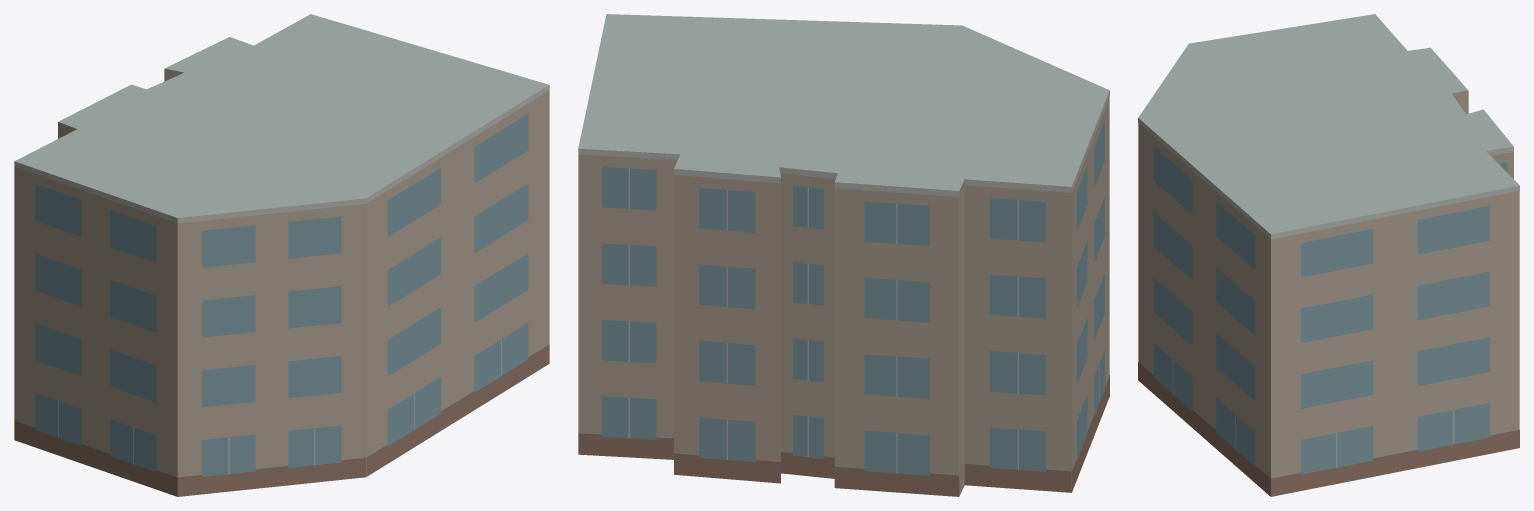
The model's file is survey-upis-32931523.glb.
3 views of the same model, side by side, from view 1: azimuth 30°, elevation 25°; view 2: azimuth 150°, elevation 25°; view 3: azimuth 270°, elevation 25° (orthographic). The views are drawn at different scales.
Parts seen in each view (by area): view 1: survey-upis-32931523.tmp; view 2: survey-upis-32931523.tmp; view 3: survey-upis-32931523.tmp.
Boxes of the visible parts, bbox=[...] form: survey-upis-32931523.tmp: bbox=[14, 14, 549, 496]; survey-upis-32931523.tmp: bbox=[578, 14, 1109, 496]; survey-upis-32931523.tmp: bbox=[1138, 14, 1519, 496].
Bounding box in the file's own units: 22.33 × 12.4 × 16.35.
